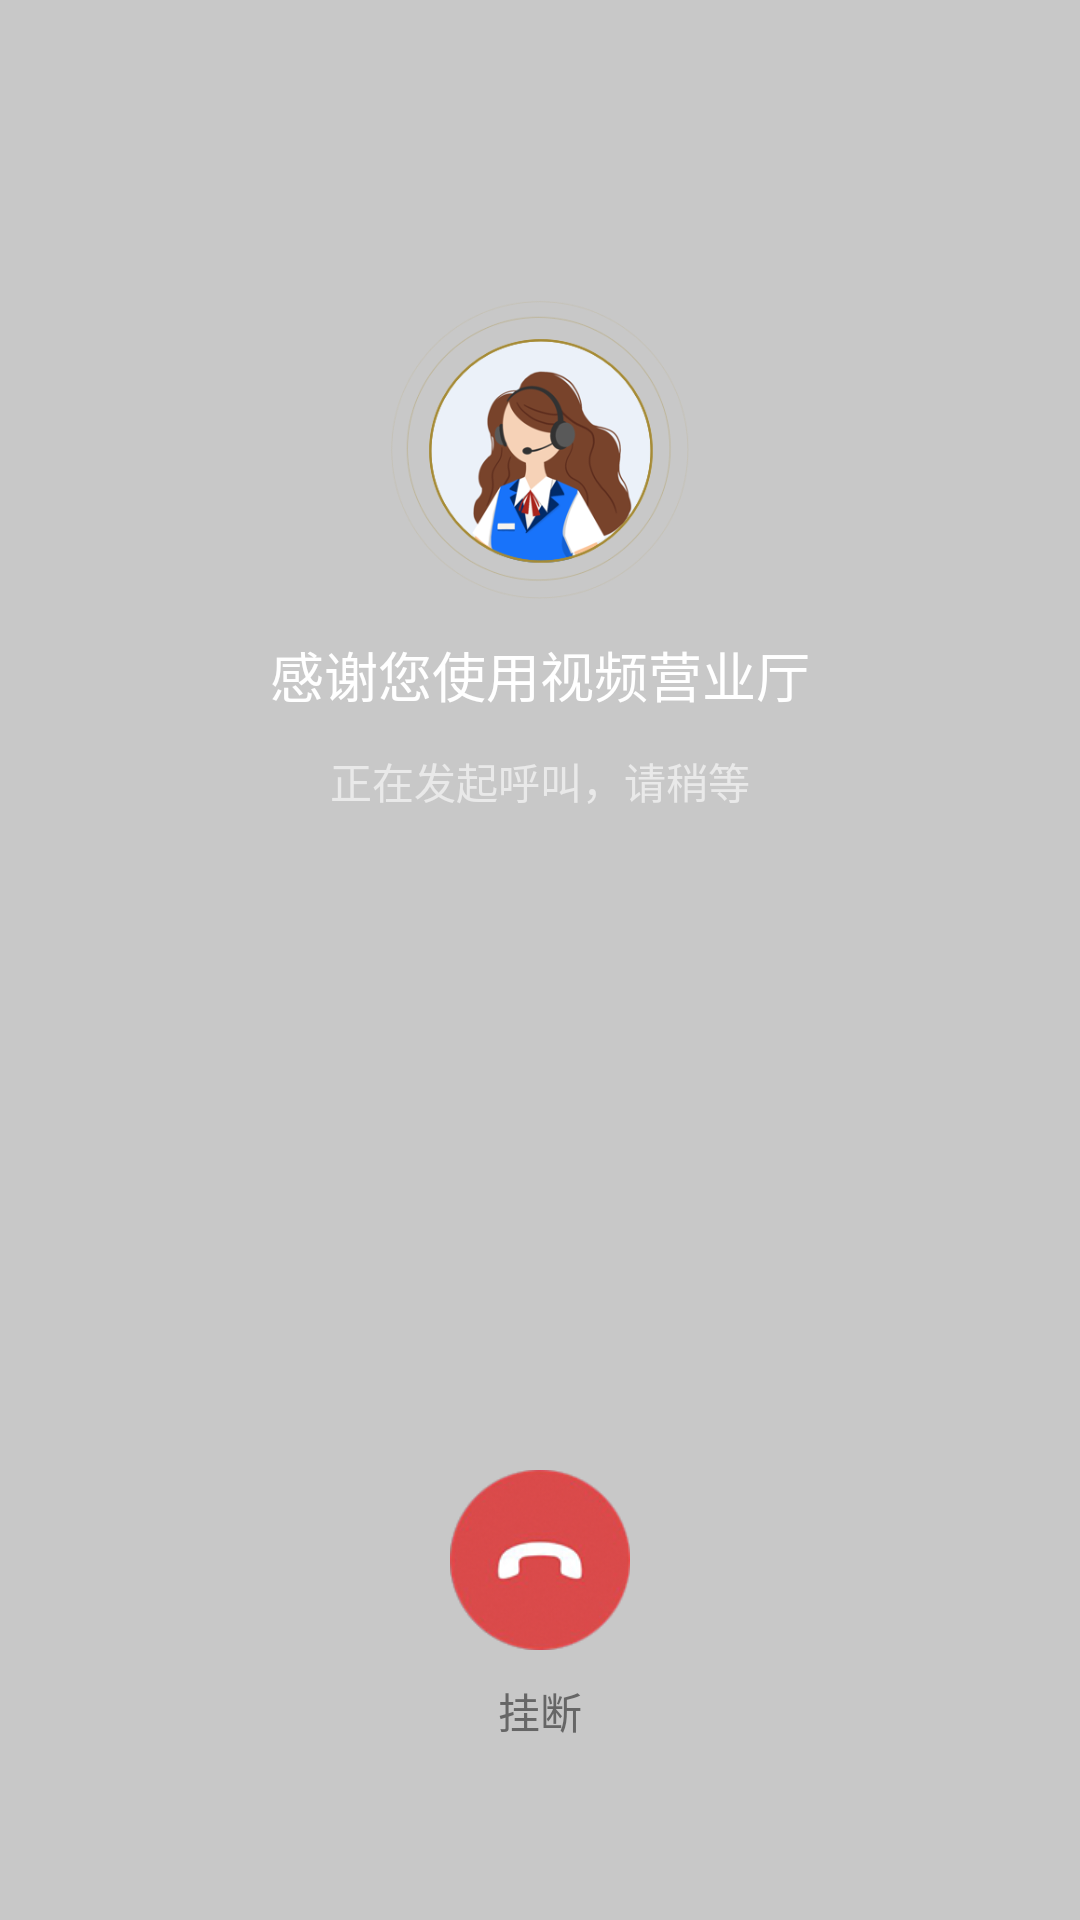

Locate icon controls on the screen. Image size 1080x1920, boxes as (x1, y1, x2, y2).
stop: (450, 1470, 630, 1650)
